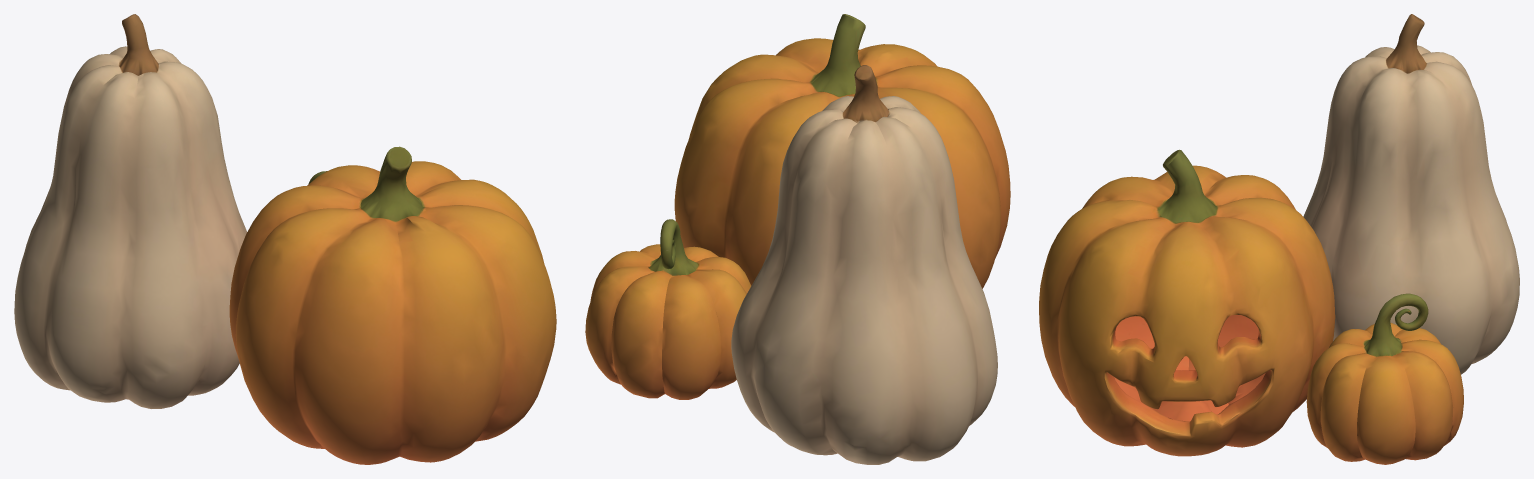
File: S8_PumpkinPile_LOD0.fbx
The picture shows the model from 3 angles, left to right: view 1: azimuth 30°, elevation 25°; view 2: azimuth 150°, elevation 25°; view 3: azimuth 270°, elevation 25°; orthographic projection. The views are drawn at different scales.
Visible parts, largest first — view 1: S8_PumpkinPile_LOD0; view 2: S8_PumpkinPile_LOD0; view 3: S8_PumpkinPile_LOD0.
Boxes of the visible parts, x1=… form: S8_PumpkinPile_LOD0: x1=14, y1=14, x2=556, y2=464; S8_PumpkinPile_LOD0: x1=585, y1=14, x2=1010, y2=464; S8_PumpkinPile_LOD0: x1=1039, y1=14, x2=1519, y2=464.
Bounding box in the file's own units: 0.6158 × 0.5502 × 0.6997.
Materials: 1 (1 with a texture image).
